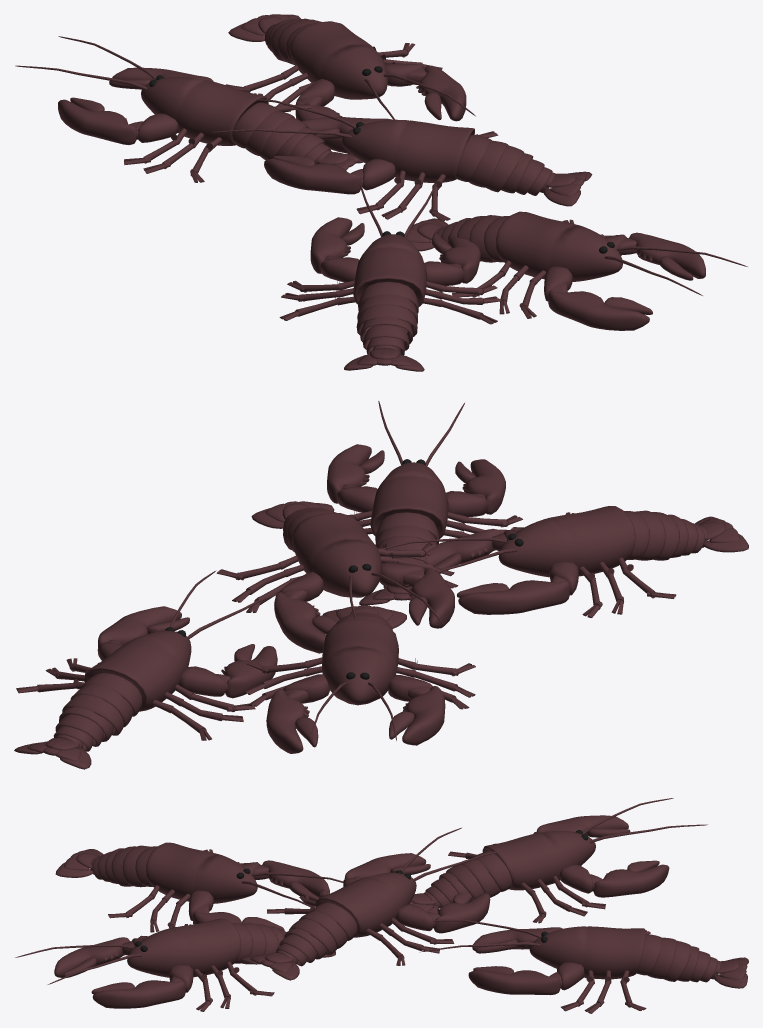
Rendered from lobsters-in-trap.glb.
3 views of the same model, one above another, from view 1: azimuth 30°, elevation 25°; view 2: azimuth 150°, elevation 25°; view 3: azimuth 270°, elevation 25° (orthographic). The views are drawn at different scales.
Parts seen in each view (by area): view 1: body.004, body.002, body, body.001, body.003; view 2: body, body.003, body.004, body.001, body.002; view 3: body.003, body.004, body.001, body.002, body.
Boxes of the visible parts, <box> form: body.004: <box>211,99,592,221</box>; body.002: <box>406,211,747,330</box>; body: <box>279,183,500,371</box>; body.001: <box>15,36,363,182</box>; body.003: <box>226,14,475,153</box>; body: <box>381,506,748,617</box>; body.003: <box>14,570,277,769</box>; body.004: <box>216,501,458,653</box>; body.001: <box>244,605,475,753</box>; body.002: <box>327,401,522,605</box>; body.003: <box>419,919,748,1013</box>; body.004: <box>240,827,496,980</box>; body.001: <box>409,798,707,923</box>; body.002: <box>15,918,335,1011</box>; body: <box>55,842,343,932</box>.
Bounding box in the file's own units: 0.4829 × 0.1052 × 0.916.
